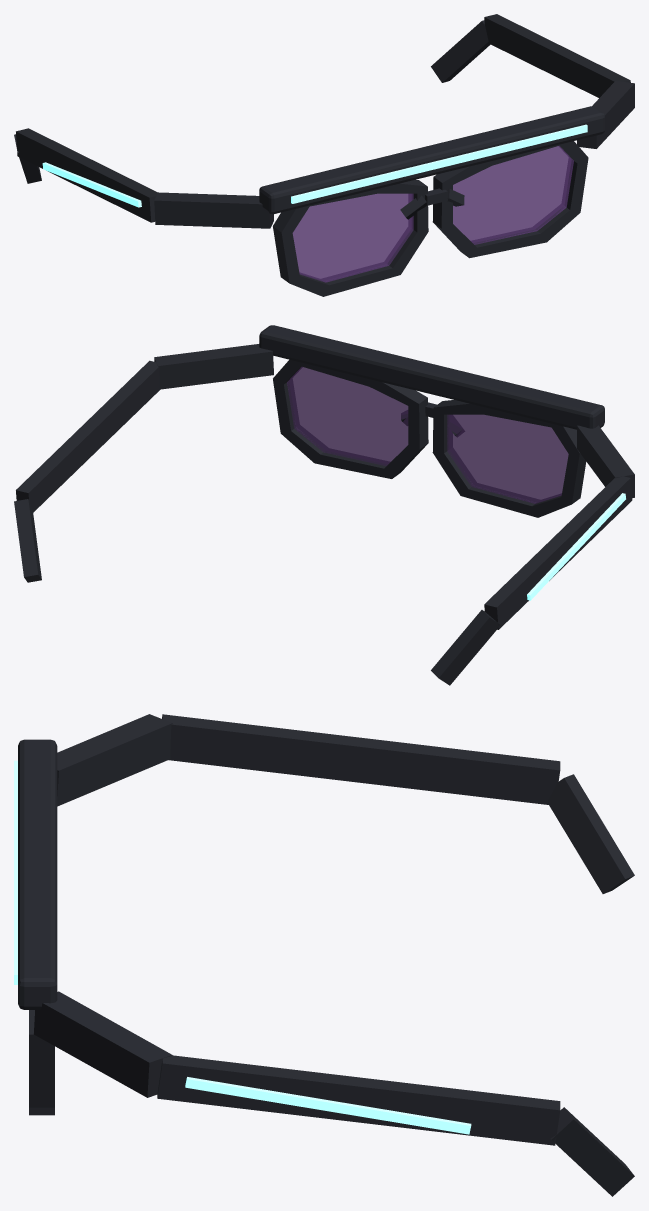
The model's file is acc_glasses_gamer_female.glb.
3 renders of one model, top to bottom at view 1: azimuth 30°, elevation 25°; view 2: azimuth 150°, elevation 25°; view 3: azimuth 270°, elevation 25°, orthographic. The views are drawn at different scales.
Visible parts, largest first — view 1: GlassesGamer; view 2: GlassesGamer; view 3: GlassesGamer.
Part boxes in pixels (x1,y1,x2,y2): GlassesGamer: (14,14,634,296); GlassesGamer: (14,325,634,685); GlassesGamer: (14,714,634,1196).
Size of the model in its own units: 0.1915 by 0.0466 by 0.1421.
